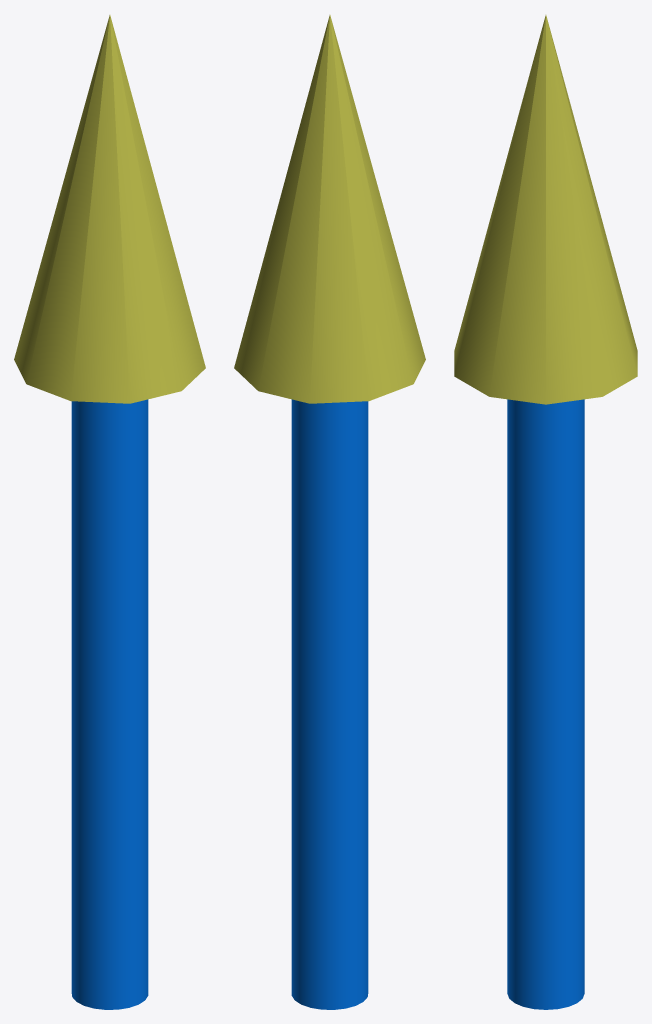
The model's file is Arrow.fbx.
3 renders of one model, left to right at view 1: azimuth 30°, elevation 25°; view 2: azimuth 150°, elevation 25°; view 3: azimuth 270°, elevation 25°, orthographic.
Visible parts, largest first — view 1: Cylinder, Cone; view 2: Cylinder, Cone; view 3: Cylinder, Cone.
Boxes of the visible parts, x1,y1,x2,y2 form: Cylinder: (71, 399, 148, 1009); Cone: (14, 15, 205, 403); Cylinder: (291, 399, 368, 1009); Cone: (234, 15, 425, 403); Cylinder: (507, 399, 584, 1009); Cone: (454, 15, 637, 404).
Bounding box in the file's own units: 50 × 280 × 47.55.
